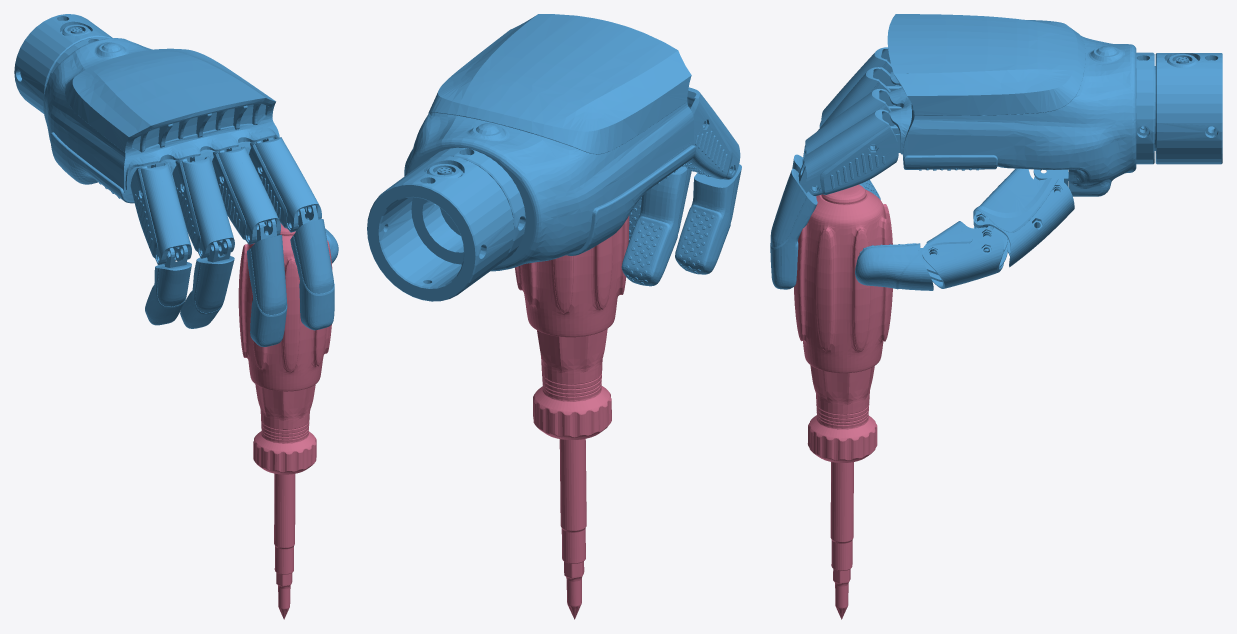
3 renders of one model, left to right at view 1: azimuth 30°, elevation 25°; view 2: azimuth 150°, elevation 25°; view 3: azimuth 270°, elevation 25°, orthographic. The views are drawn at different scales.
Parts seen in each view (by area): view 1: 0; view 2: 0; view 3: 0.
Part boxes in pixels (<box>): 0: <box>14,14,338,619</box>; 0: <box>367,14,741,619</box>; 0: <box>770,14,1222,619</box>.
Bounding box in the file's own units: 0.1128 × 0.2741 × 0.2025.
